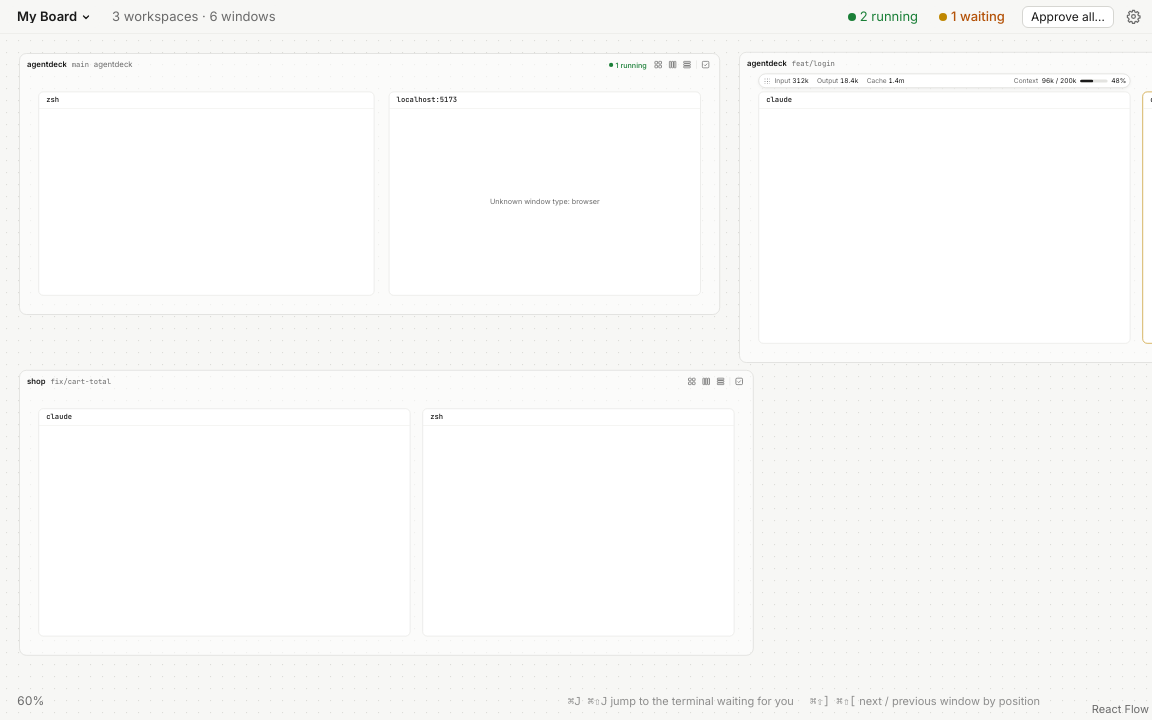
Test case: PL2 the popover › click shows model + window, last request, requests; Move to bottom / top and Hide
Click the button with class "ad-usage-body". click: [1059, 80]
box: x1=775 y1=74 x2=1127 y2=87
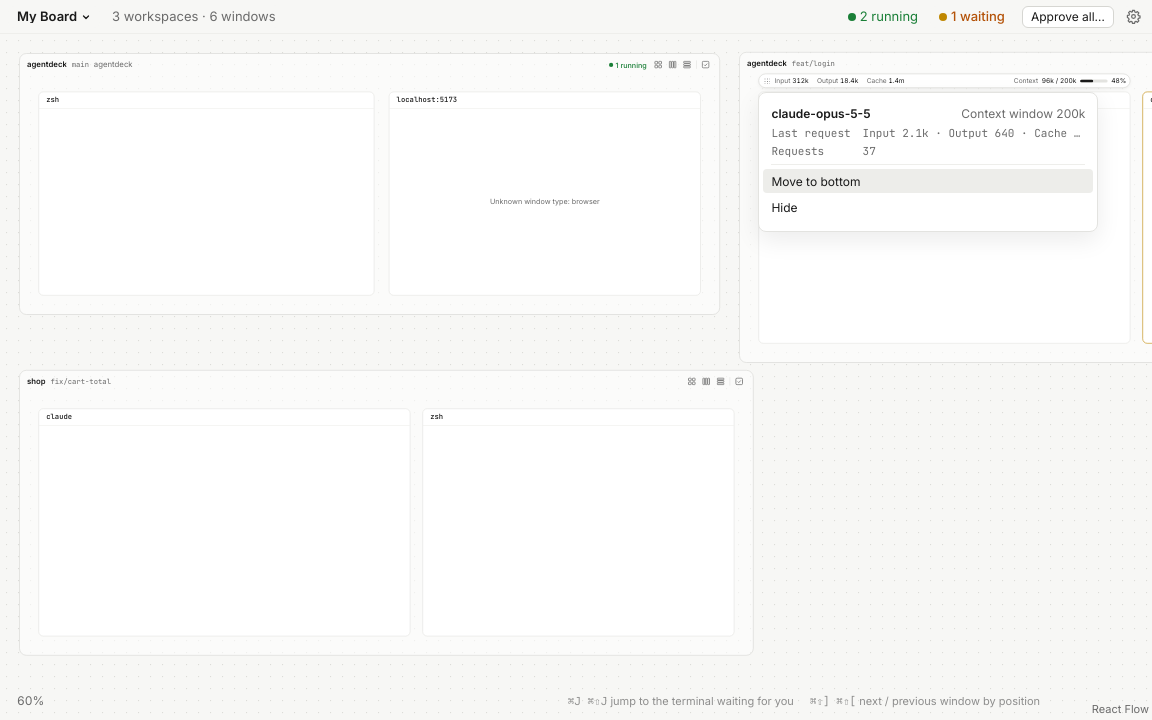
Expected: the text "claude-opus-5-5" is shown, x1=771 y1=106 x2=870 y2=121
Expected: the text "Context window 200k" is shown, x1=961 y1=105 x2=1085 y2=122
Expected: the text "Input 2.1k · Output 640 · Cache 94k" is shown, x1=863 y1=126 x2=1085 y2=142
Click the button "Move to bottom". click: [816, 181]
box: x1=763 y1=169 x2=1093 y2=193
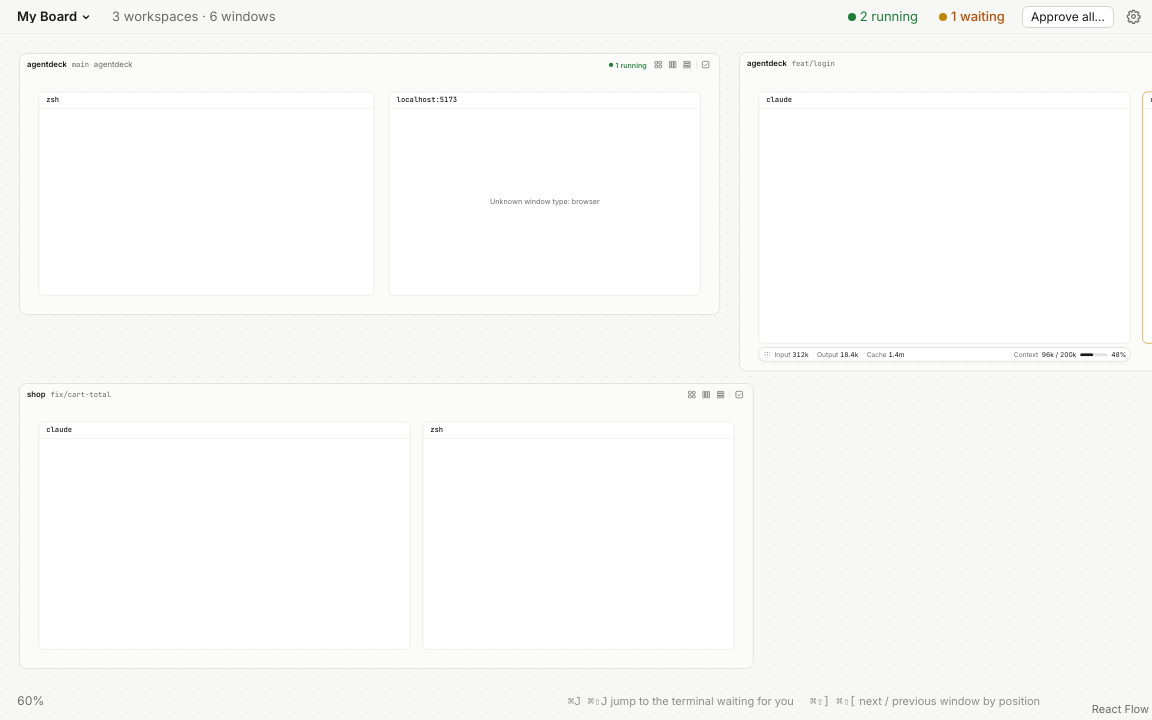
Expected: the element with class "ad-usage-strip" has attribute data-position="bottom", x1=758 y1=347 x2=1130 y2=362
Click the button with class "ad-usage-body". click: [1059, 354]
box: x1=775 y1=348 x2=1127 y2=361
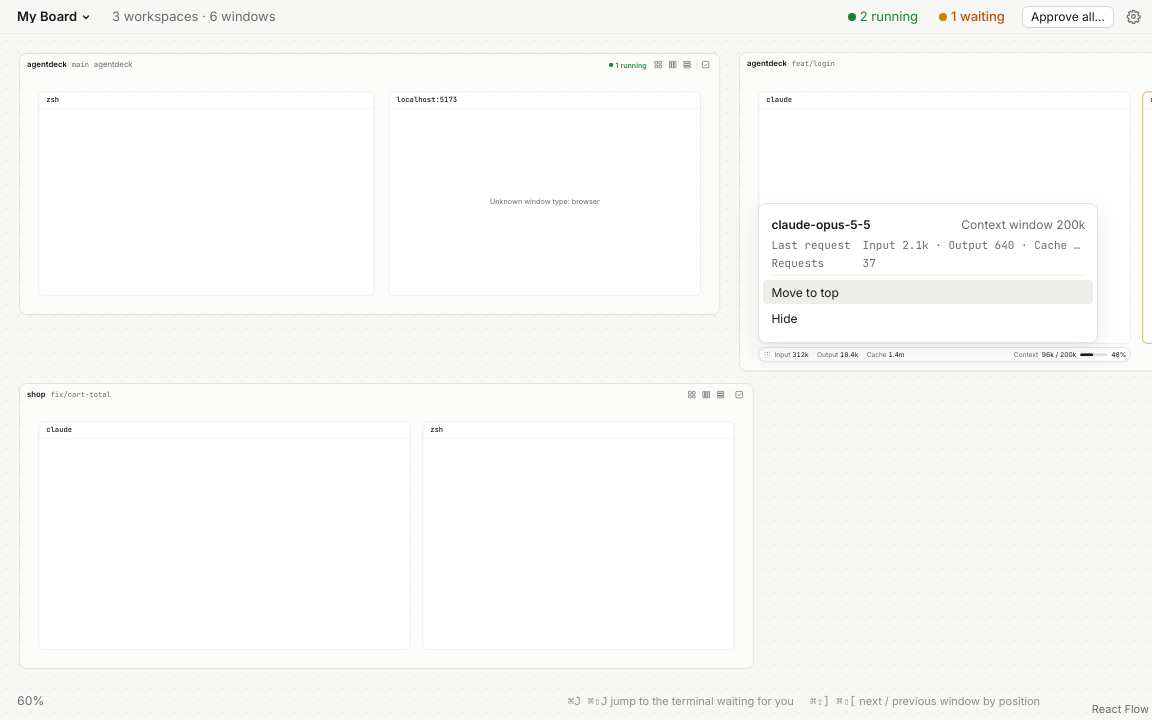
Expected: the button "Move to top" is shown, x1=763 y1=280 x2=1093 y2=304
Click the button "Hide". click: [784, 318]
box: x1=763 y1=306 x2=1093 y2=330
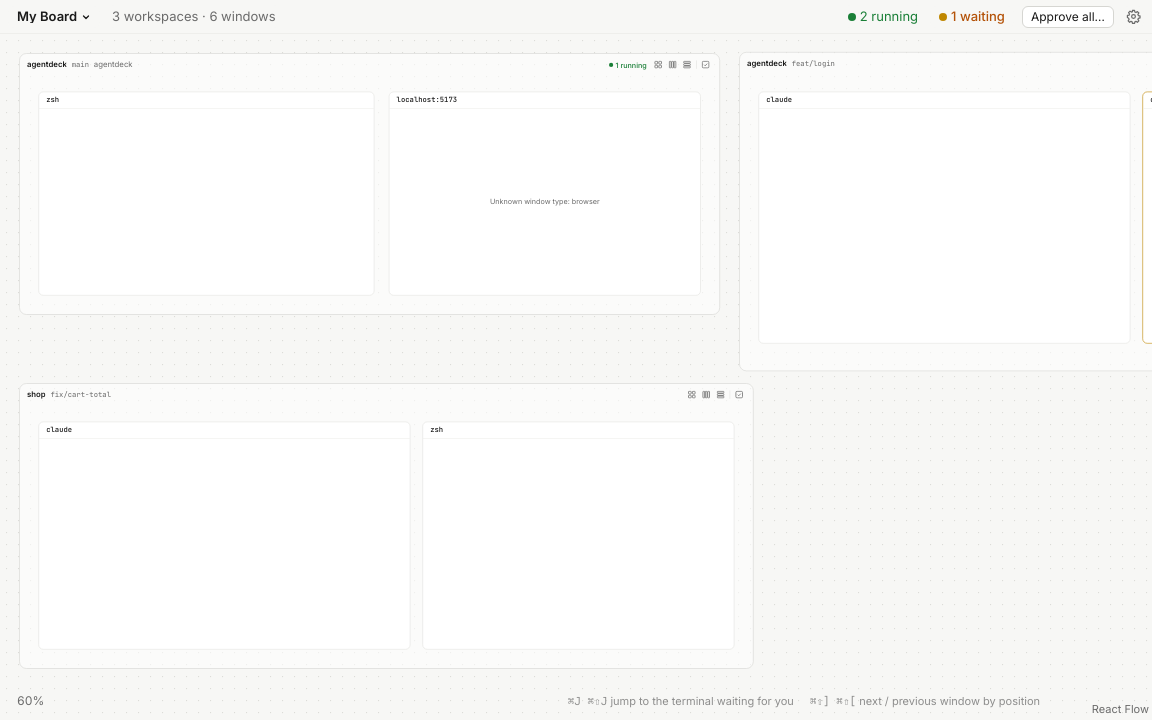
Expected: the element with class "ad-usage-strip" is gone
